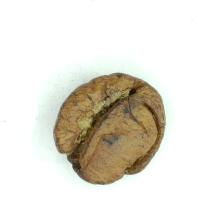NG: (70, 83, 165, 185)
